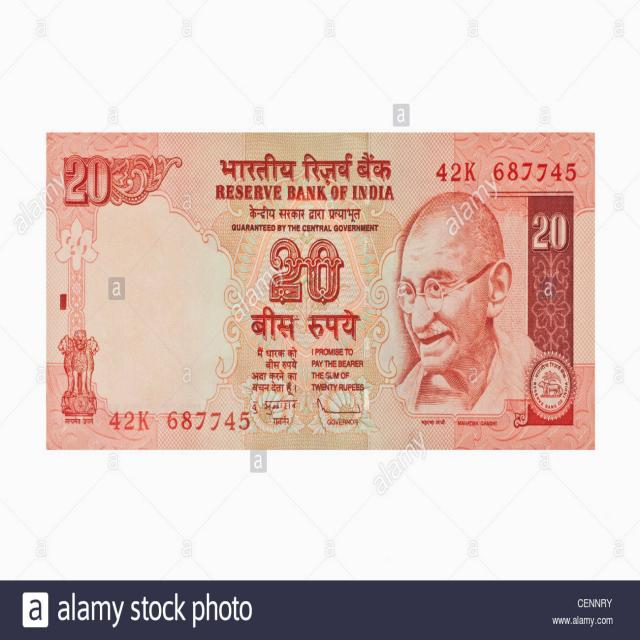20IndianRupees: (51, 132, 591, 446), (205, 136, 595, 448), (47, 133, 394, 447)
